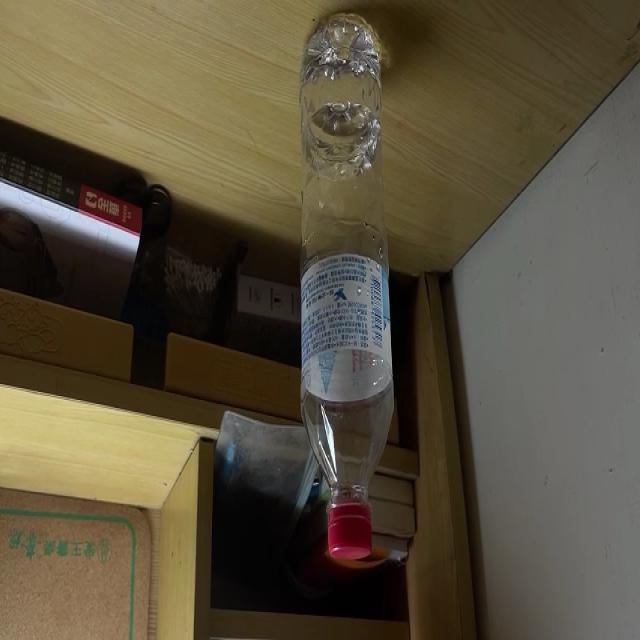Water: (299, 10, 397, 561)
